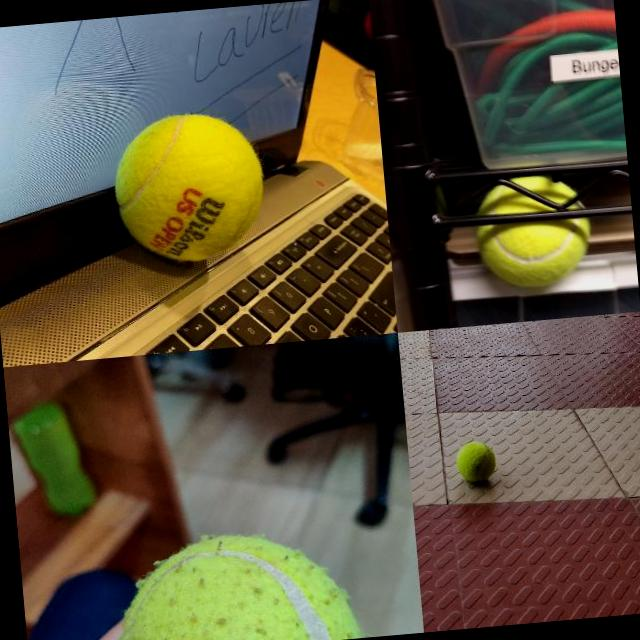Tennis Ball: (106, 522, 361, 640), (107, 106, 270, 268), (472, 172, 596, 293), (454, 439, 496, 482)
